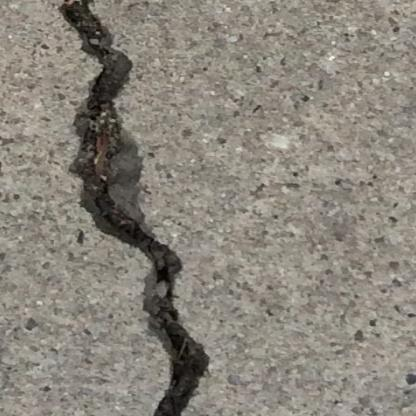Cracks: (58, 0, 212, 416)
